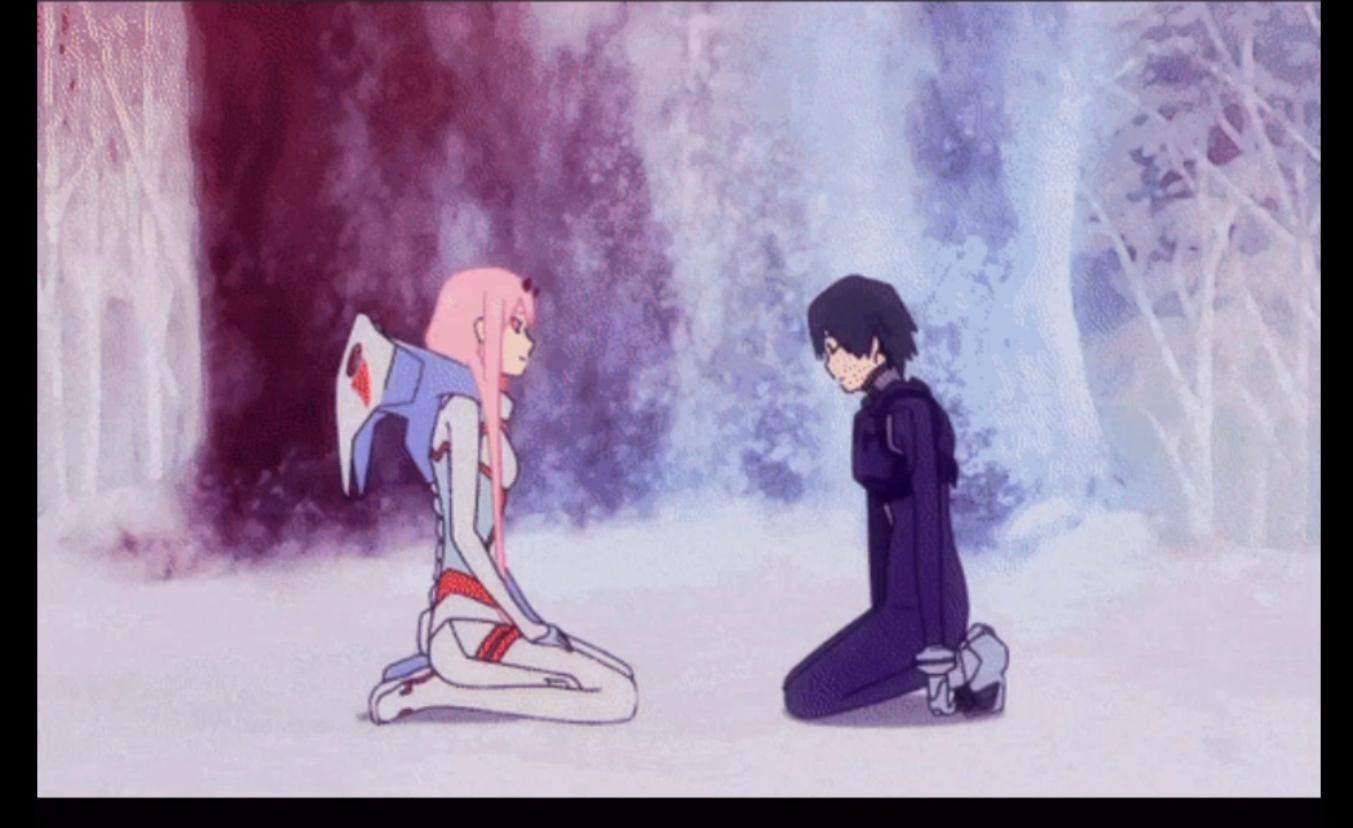zeroTwo: (410, 262, 542, 383)
